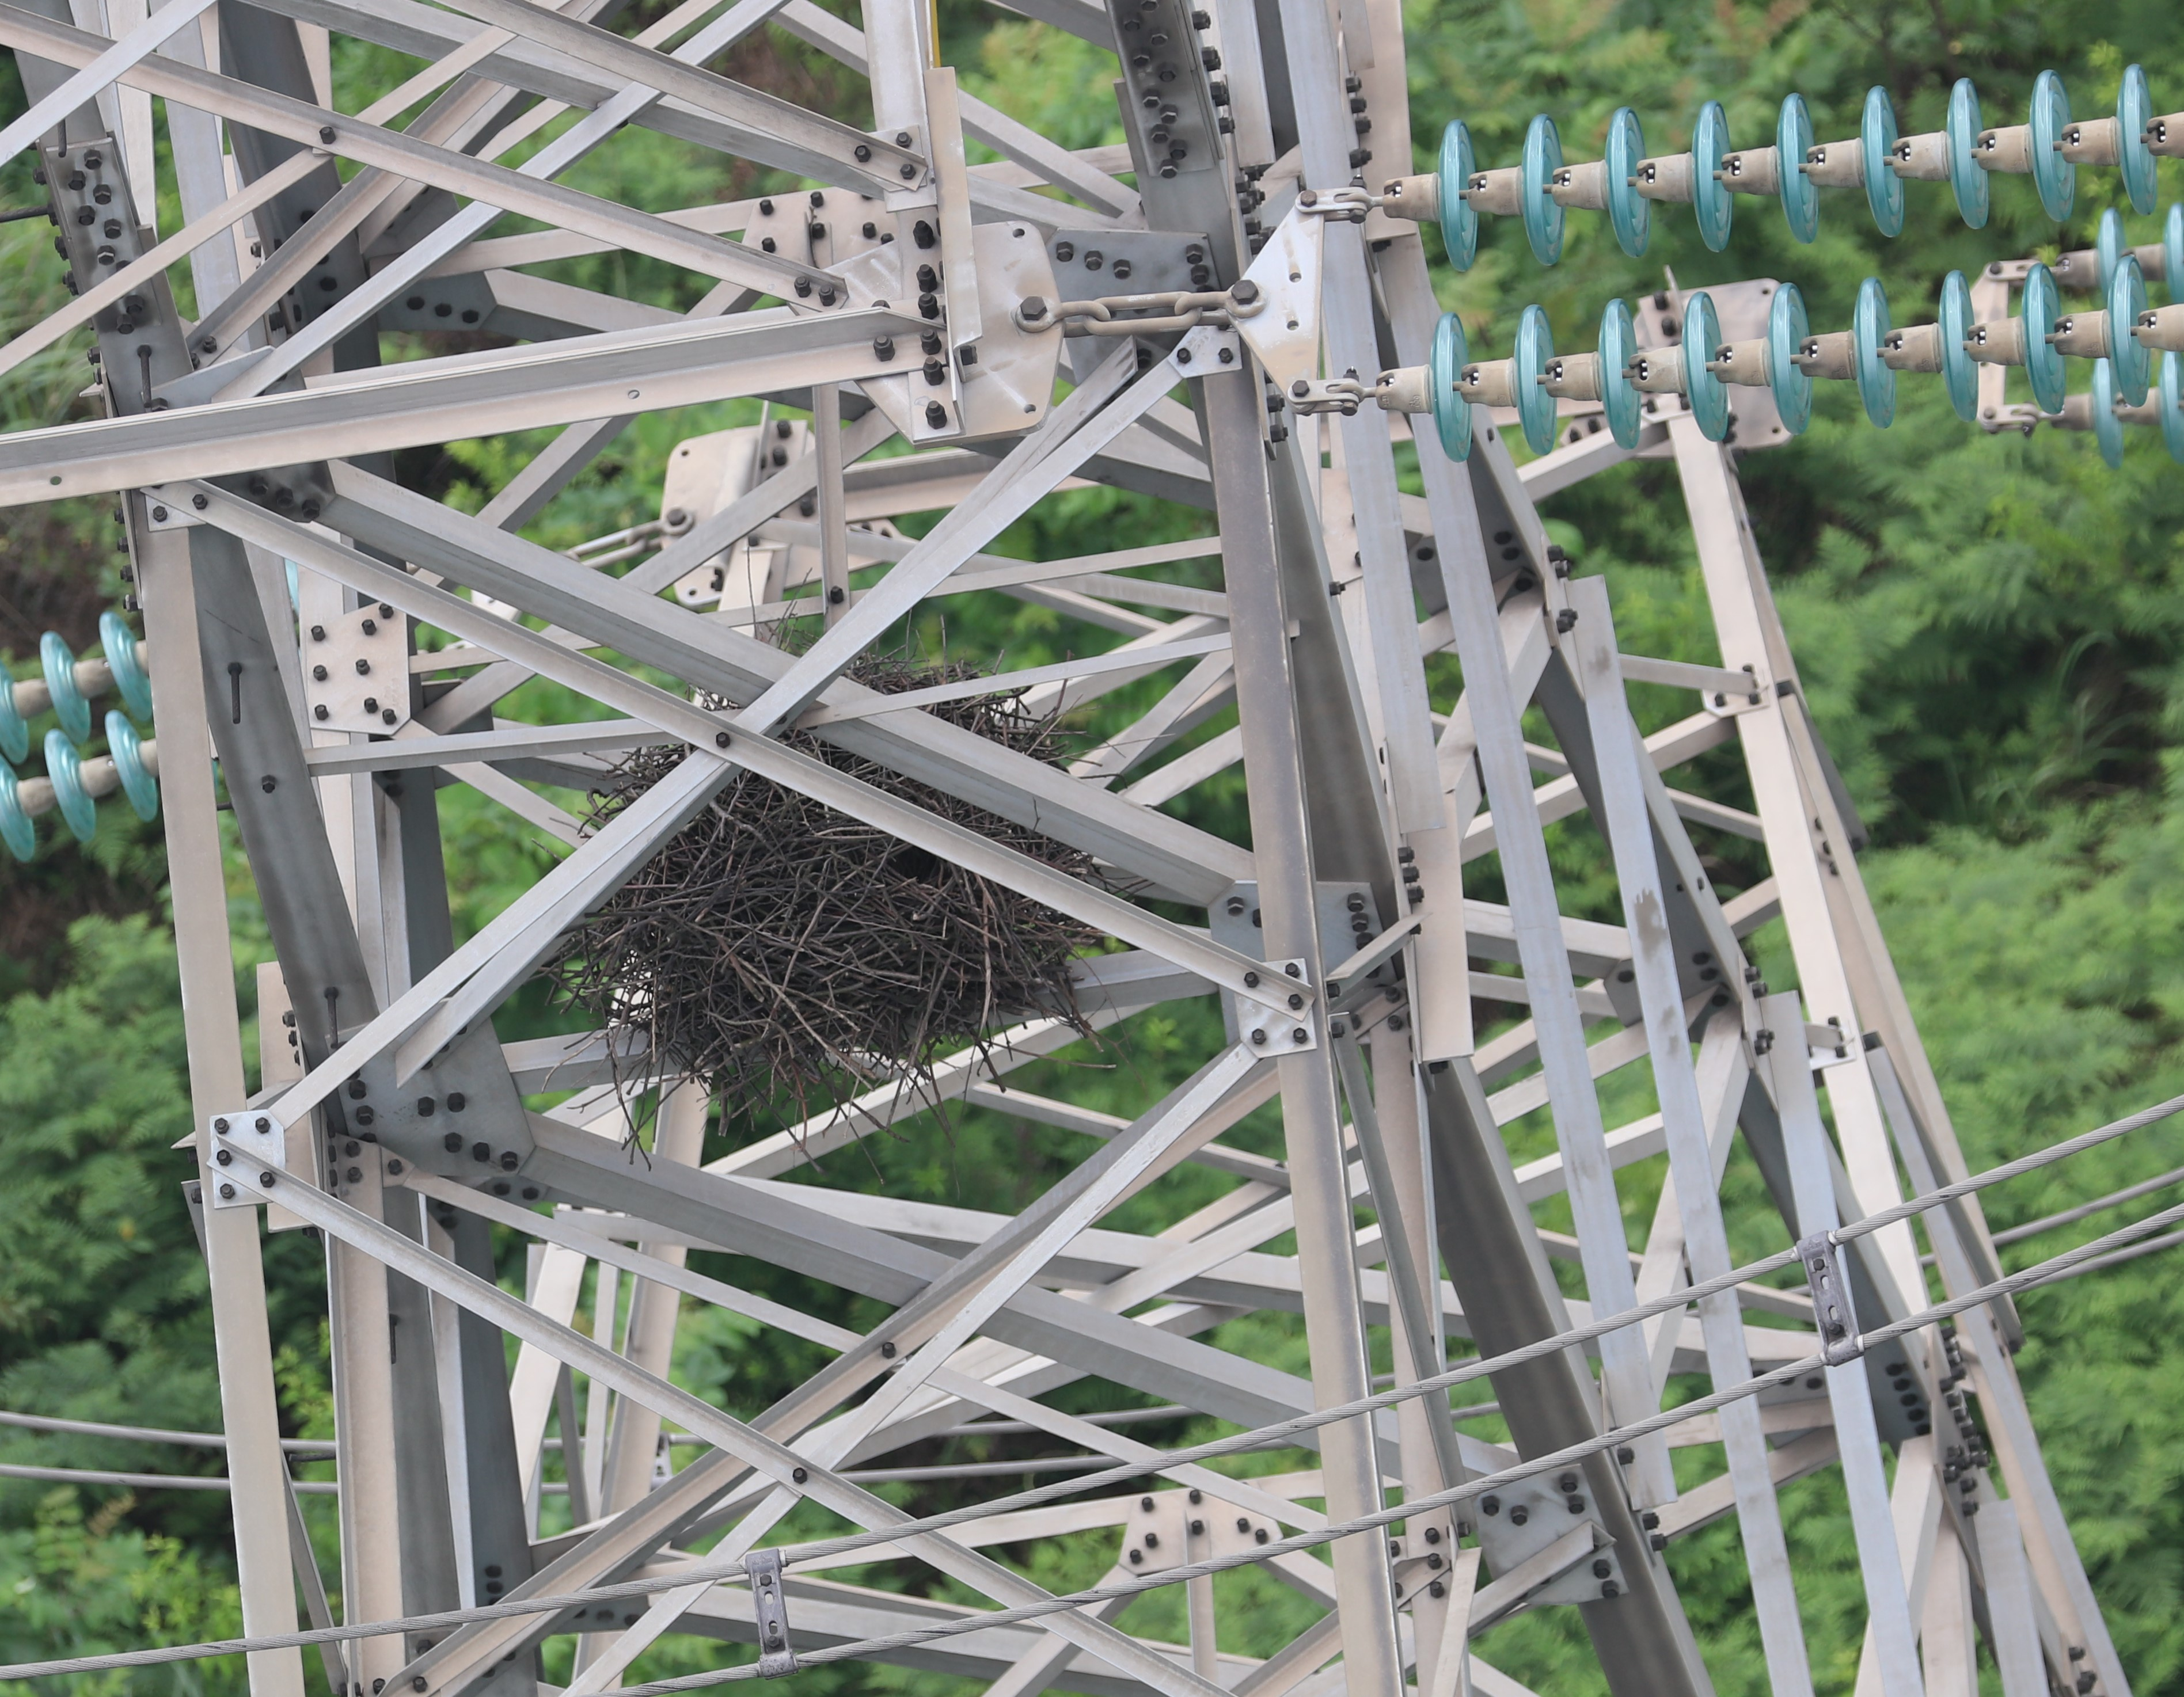niaowo: (553, 639, 1119, 1135)
